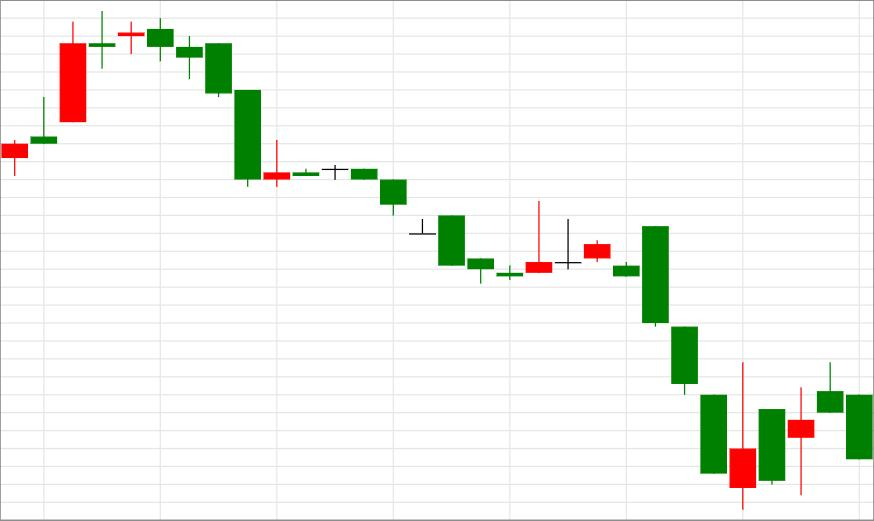three_black_crows_fall: (497, 200, 726, 475)
